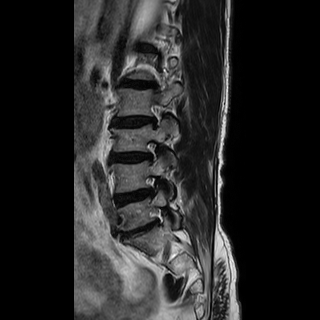LFS0: (139, 101, 170, 133), (142, 204, 169, 232)
LFS1: (140, 136, 166, 170)
LFS2: (140, 170, 171, 203)
